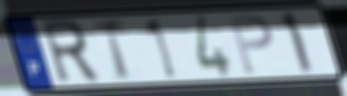1: (278, 10, 317, 77), (144, 16, 179, 80)
4: (195, 13, 235, 80)
P: (226, 14, 275, 76)
R: (37, 18, 103, 87)
T: (91, 17, 133, 83)
